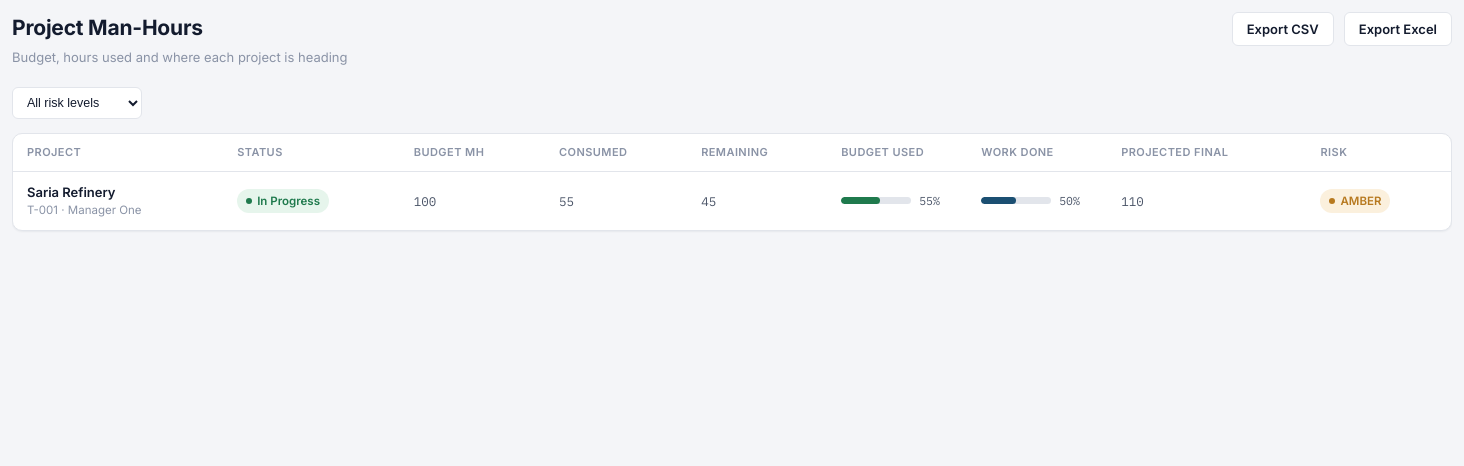
man-hours additions › shows hours by task category in the breakdown
What coordinates should you click on to do the following:
click the text "Saria Refinery"
I would click on:
 (71, 192)
Its box is [27, 184, 116, 200].
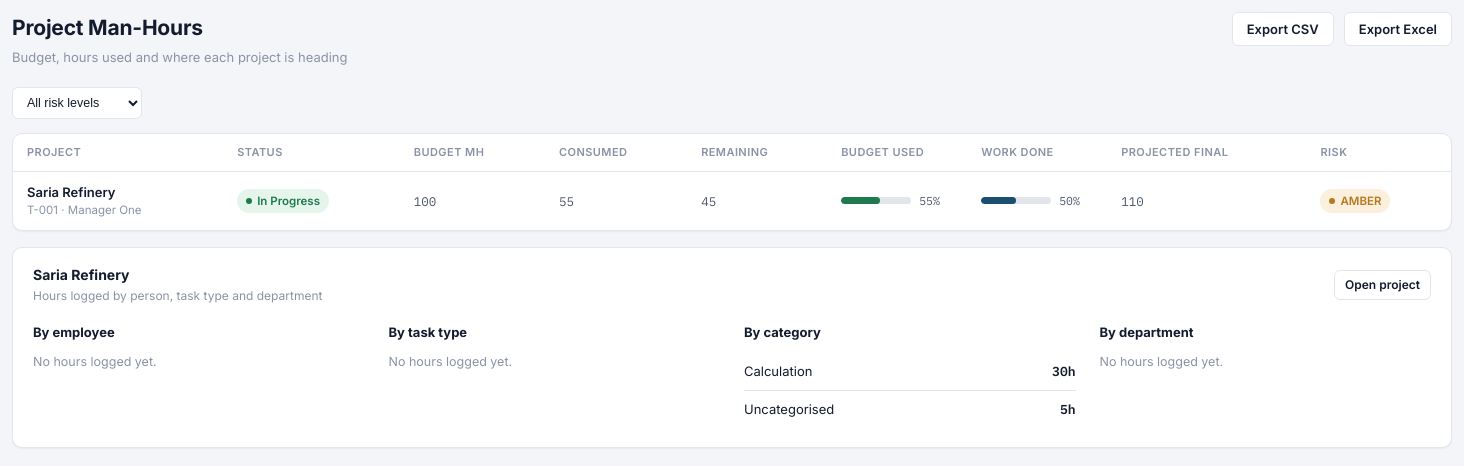
Expected: the text "By category" is shown, [744, 324, 821, 340]
Expected: the text "Calculation" is shown, [744, 362, 812, 381]
Expected: the text "30h" is shown, [1052, 362, 1076, 381]
